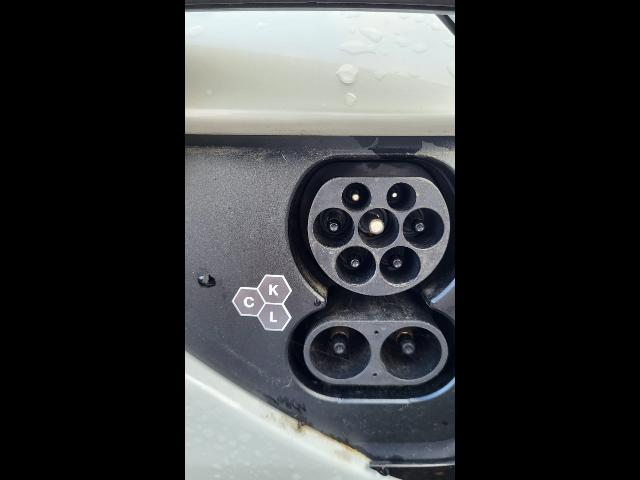inlet: (308, 177, 451, 296)
inlet-above-left: (342, 182, 372, 212)
inlet-above-right: (387, 183, 417, 212)
inlet-below-left: (335, 246, 377, 285)
inlet-below-right: (380, 246, 421, 286)
inlet-circle: (358, 207, 400, 249)
inlet-circle-left: (313, 207, 355, 248)
inlet-circle-right: (403, 207, 445, 250)
inlet-minus: (380, 326, 442, 380)
inlet-plus: (309, 326, 371, 379)
